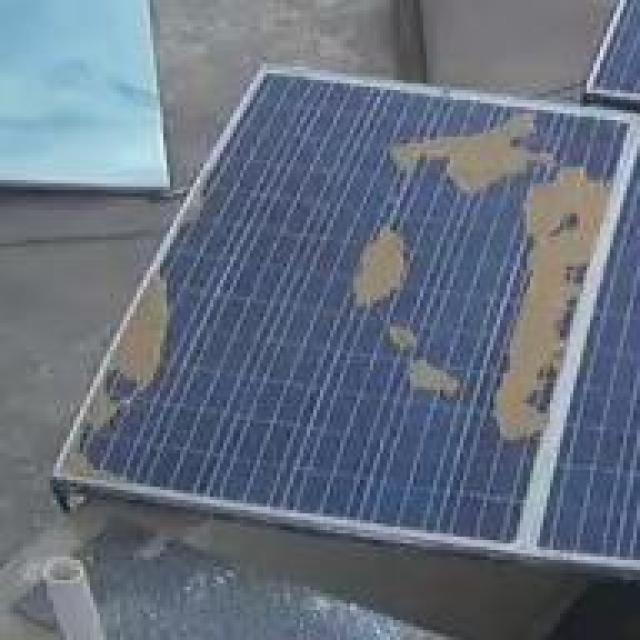Anomaly Solar Panel: (53, 66, 629, 545)
Surface Contaminant: (473, 153, 616, 449), (75, 265, 200, 445), (385, 112, 549, 203), (363, 312, 468, 416), (340, 222, 415, 319)
